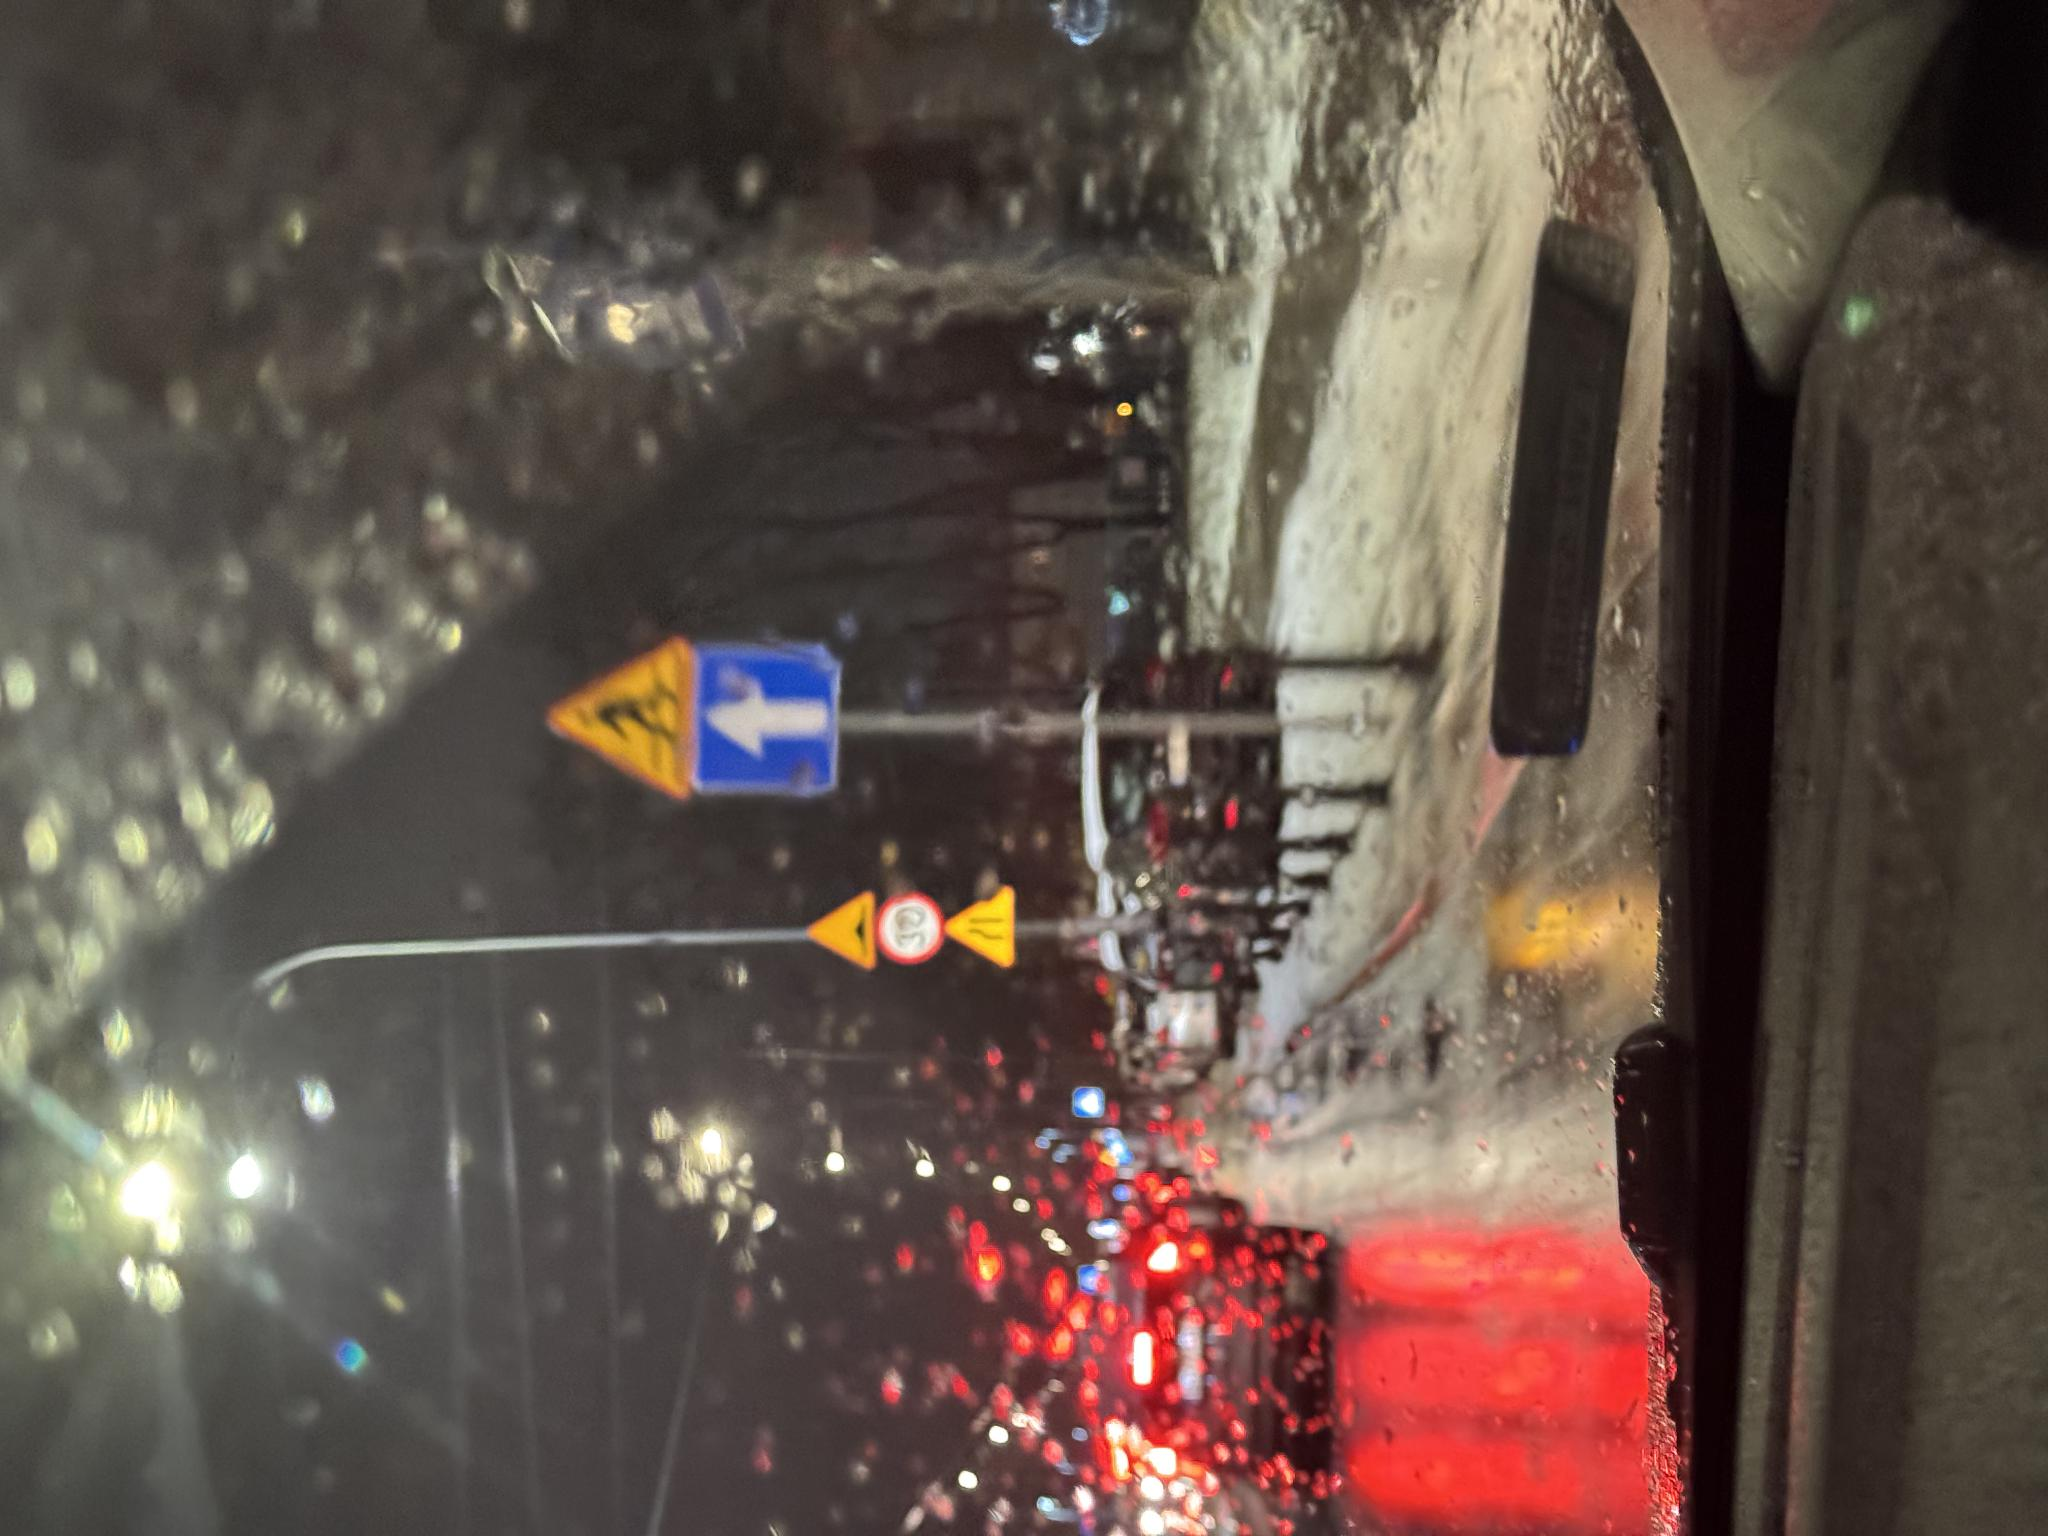information: (742, 692, 895, 842)
prohibitory: (569, 876, 645, 945)
warning: (732, 544, 901, 695), (566, 945, 655, 1018), (563, 805, 647, 878)
